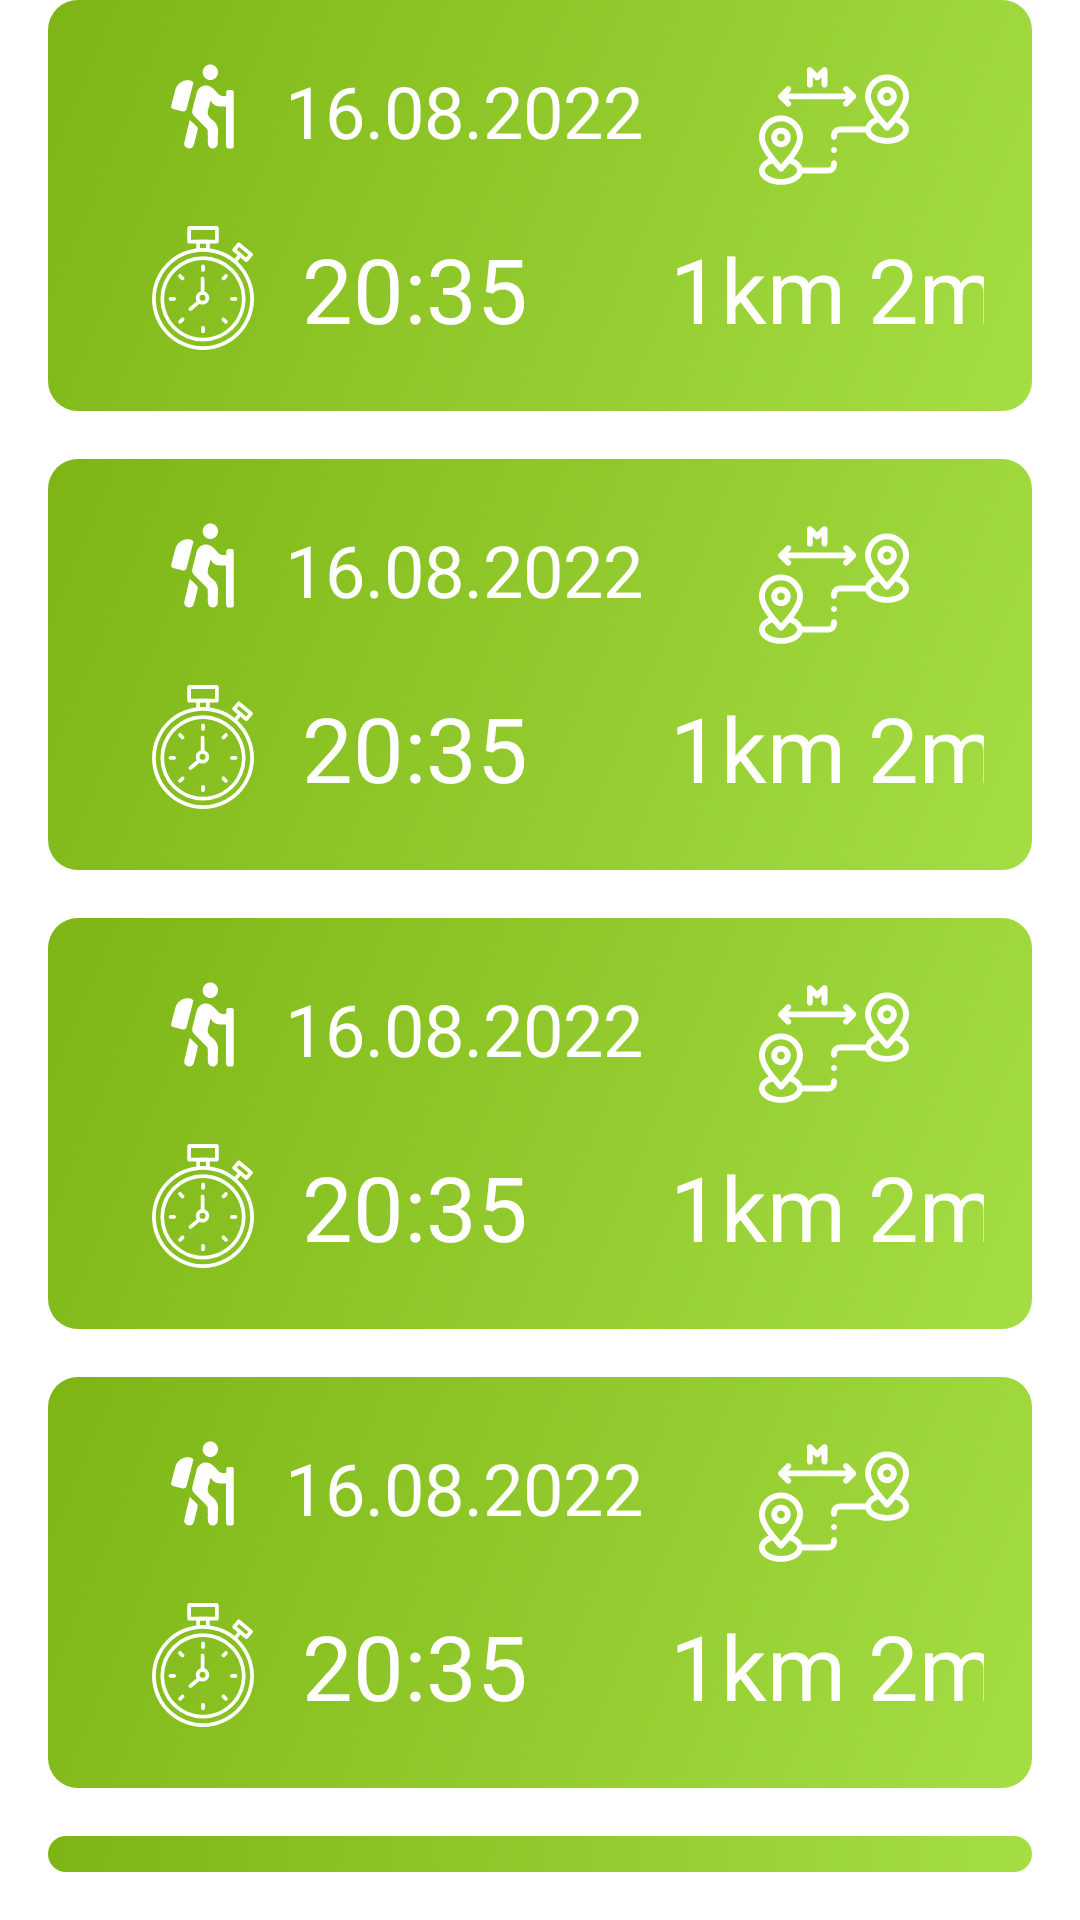

Where icons sit on this 1080w x 1920h app screen, as box(x1, y1, x2, y2):
distance icon: box(759, 67, 909, 185), box(759, 526, 909, 644), box(759, 985, 909, 1103), box(759, 1444, 909, 1562)
icon clock: box(152, 226, 254, 350), box(152, 685, 254, 809), box(152, 1144, 254, 1268), box(152, 1603, 254, 1727)
